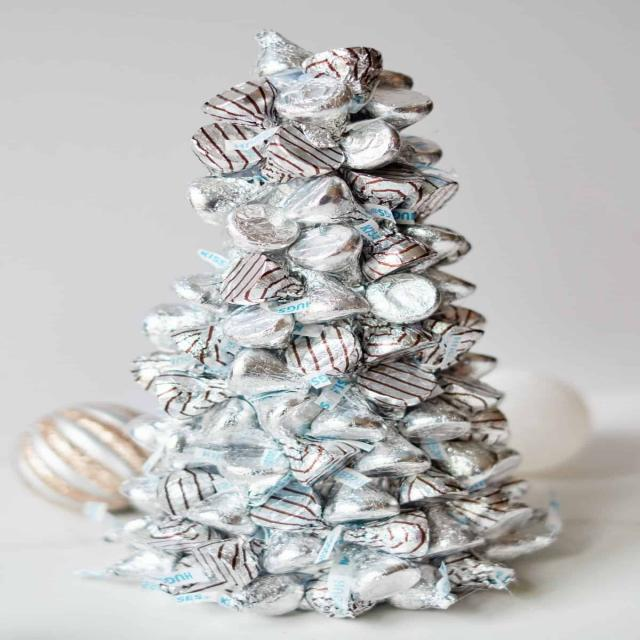kisses: (288, 268, 375, 329), (291, 226, 374, 289), (271, 76, 355, 133), (135, 302, 227, 353), (188, 398, 278, 450), (311, 384, 389, 442), (348, 546, 423, 604), (228, 348, 312, 399), (442, 439, 524, 491), (322, 473, 402, 526), (192, 173, 272, 223), (365, 274, 445, 324), (362, 424, 433, 479), (293, 177, 367, 229), (224, 201, 298, 251), (185, 487, 261, 535), (246, 21, 310, 77), (224, 304, 298, 352), (402, 398, 472, 447), (338, 118, 406, 168), (234, 571, 311, 615), (430, 505, 490, 561), (164, 269, 229, 312), (370, 86, 434, 129), (414, 226, 465, 276), (267, 536, 329, 574)
